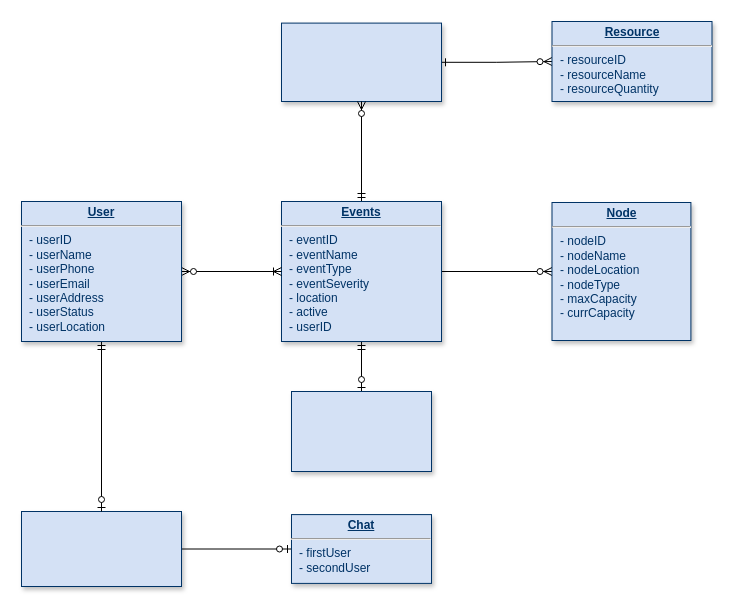
This 736x611 diagram has some shape labels left out. The centre of each missing label's shape, as x and y in pixels:
ContactList - userID - friendID: point (102, 550)
HelpDoc - eventID - eventType - content: point (362, 432)
ResourceList - eventID - resourceID: point (362, 63)
